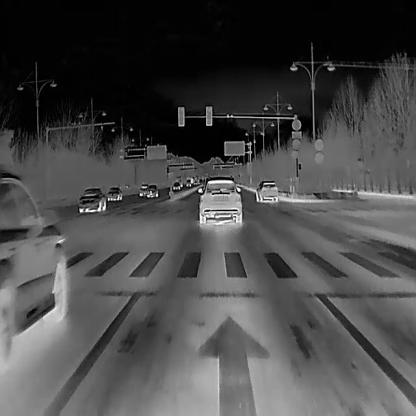car: (0, 170, 68, 364), (197, 175, 241, 226), (77, 187, 106, 213), (254, 180, 277, 202), (107, 185, 121, 200), (147, 182, 157, 196), (139, 183, 147, 195), (172, 180, 180, 188)
